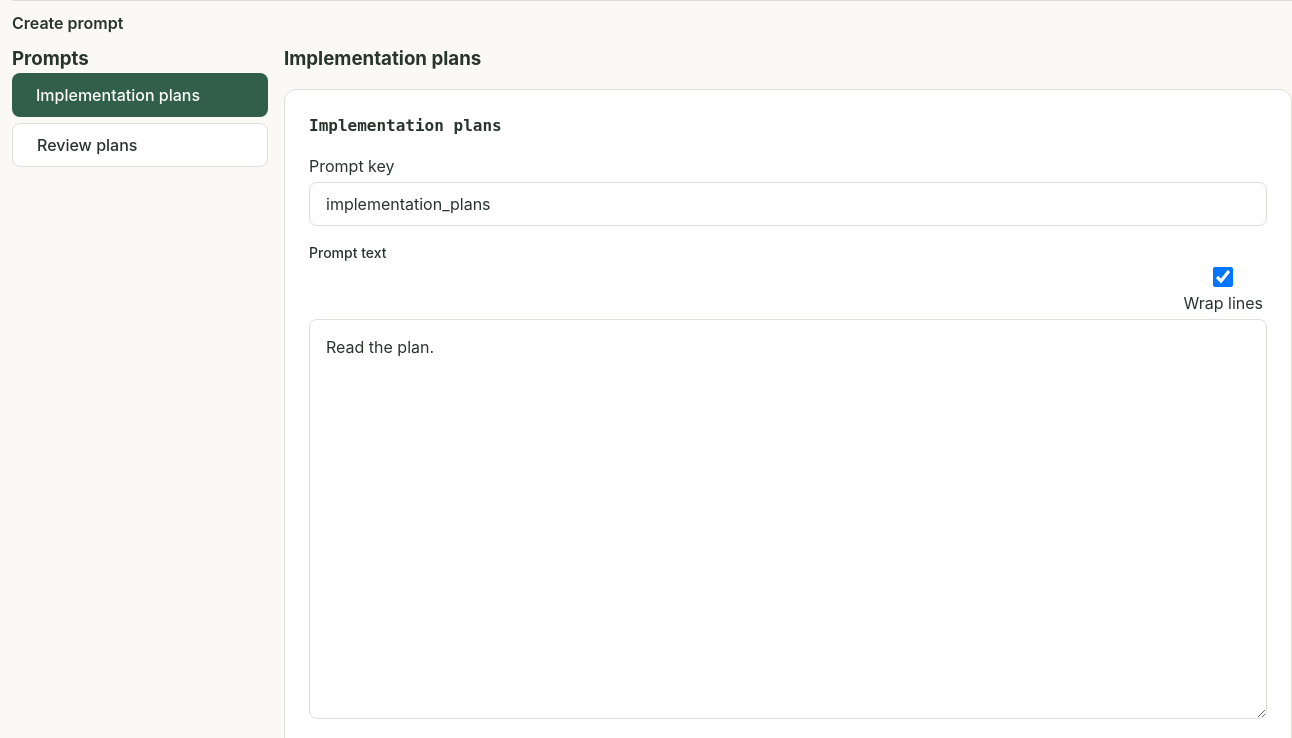
Test: PromptsSettings › labels the secondary action as a prompt, never as plan deletion
Click the button "Review plans" at (140, 145), box [12, 123, 268, 167]
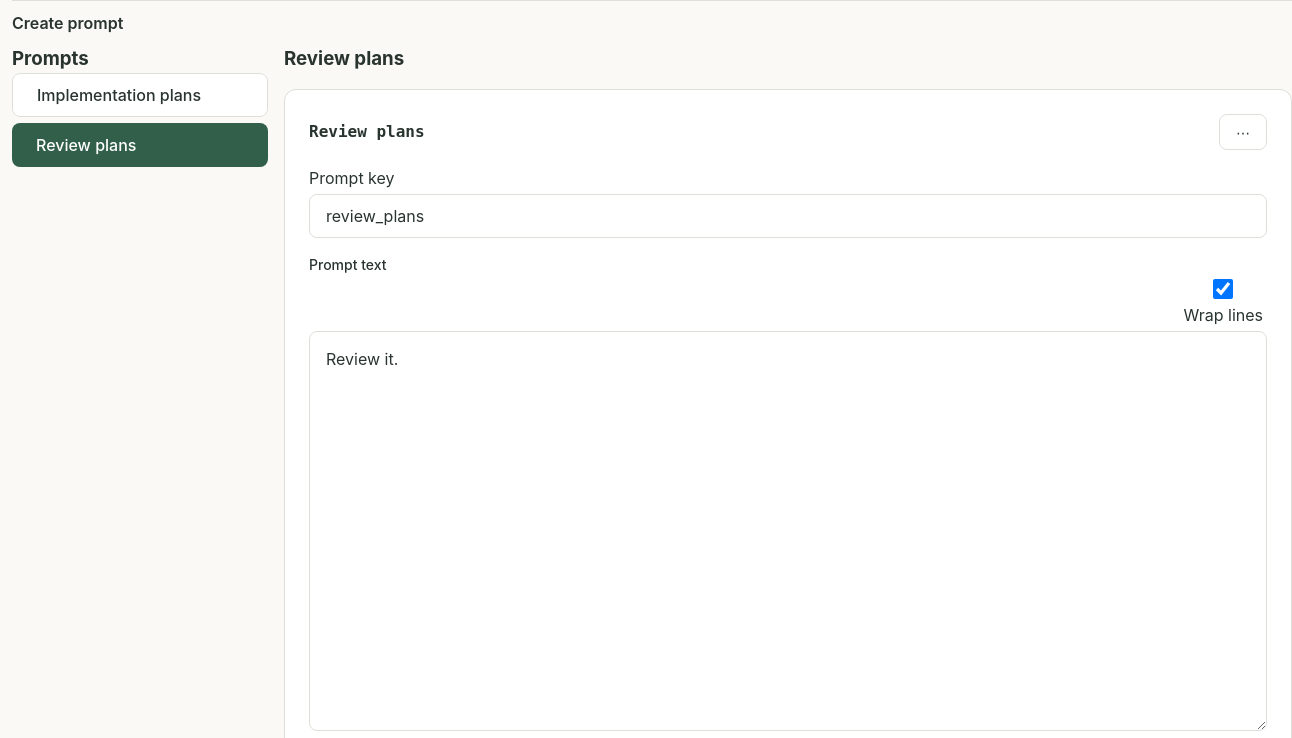
Click the button named "More actions for prompt Review plans" at (1243, 132), box [1219, 114, 1267, 150]
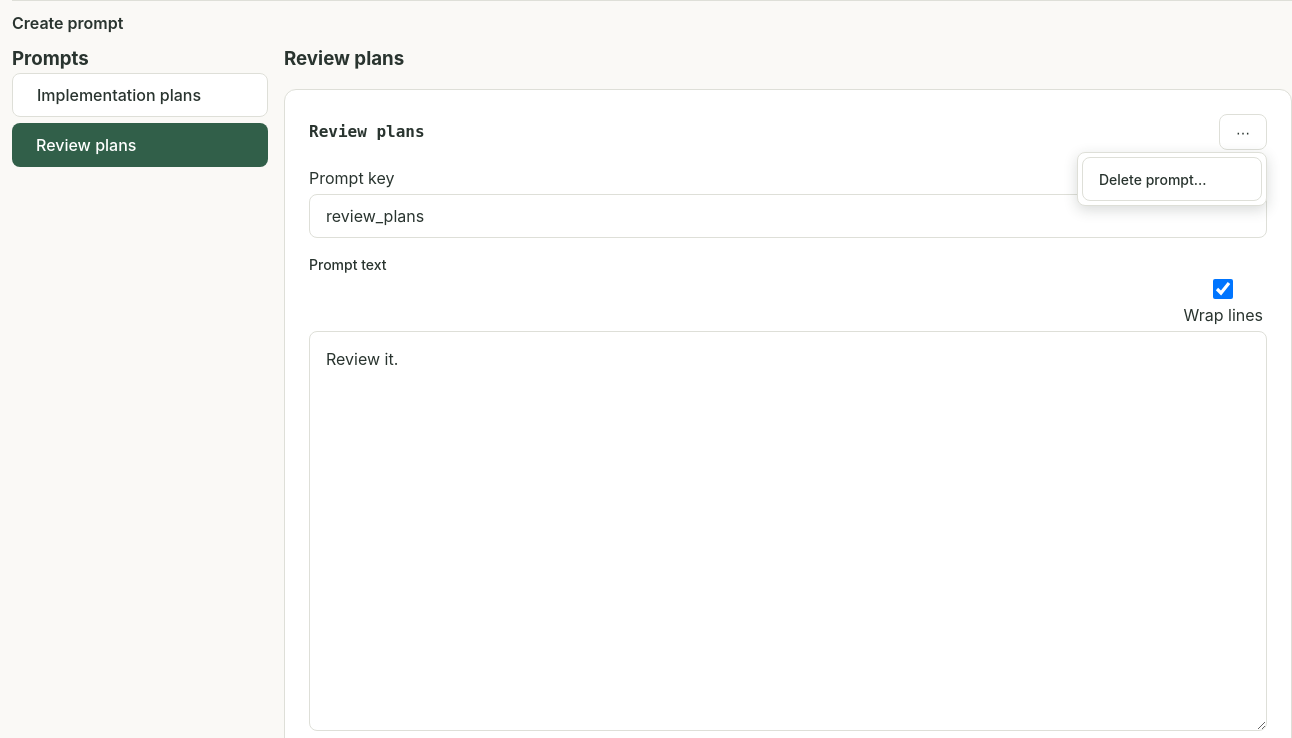
Check: the menu item "Delete prompt…" is shown, box [1082, 157, 1262, 201]
